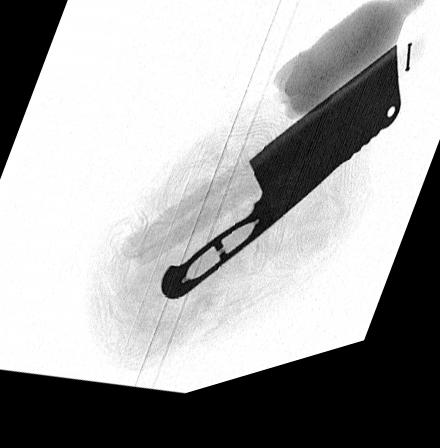Knife: (160, 67, 403, 309)
